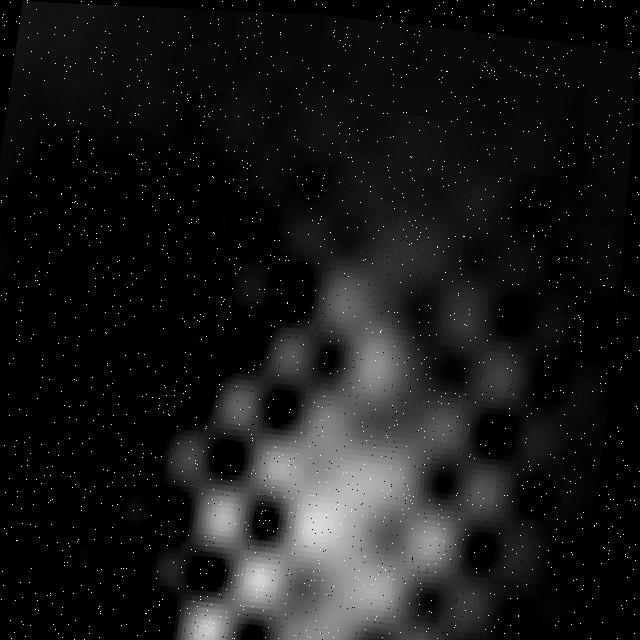person: (131, 200, 515, 640)
